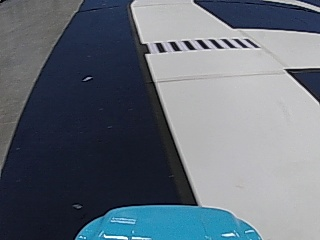CrossWalk: (141, 35, 258, 52)
